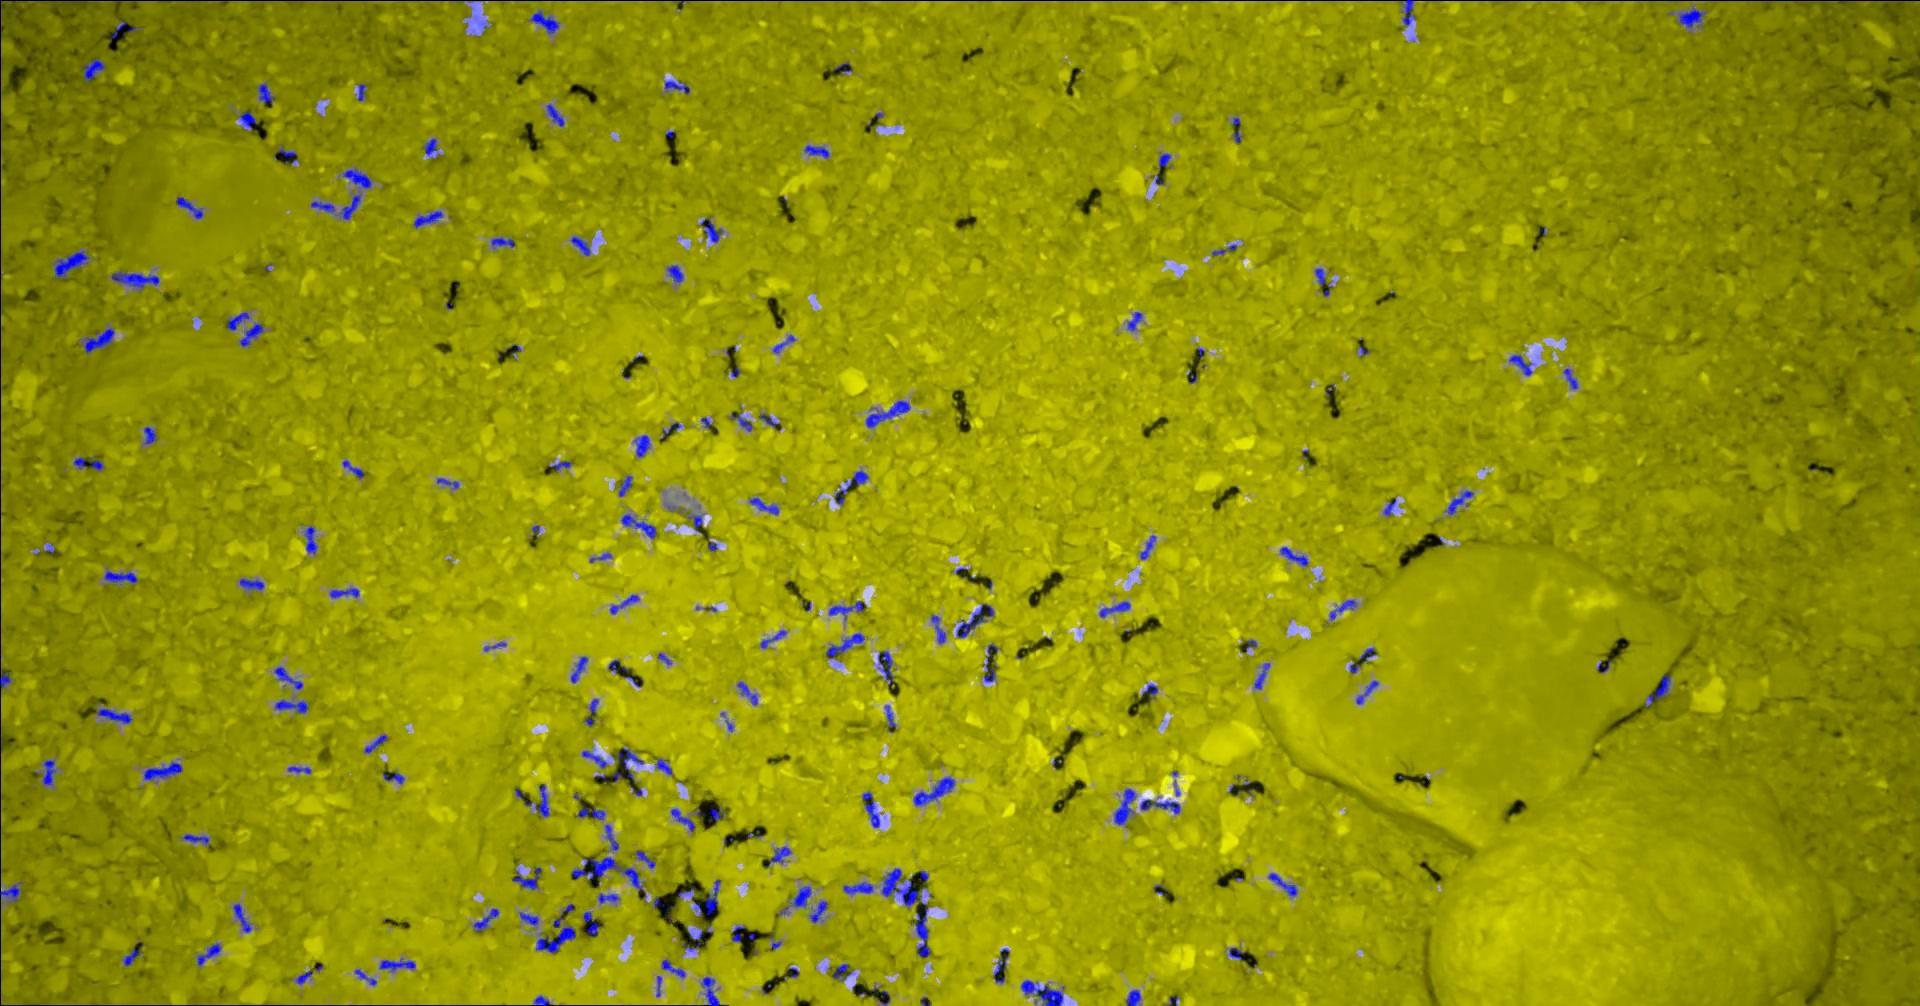ant: (883, 868, 932, 956), (573, 856, 645, 890), (957, 603, 996, 636), (914, 776, 956, 805), (836, 470, 870, 504), (867, 400, 910, 427), (1022, 979, 1065, 1005), (613, 747, 645, 780), (55, 250, 91, 278), (827, 633, 866, 658), (537, 926, 577, 951), (695, 879, 723, 915), (622, 513, 658, 539), (610, 659, 643, 686), (113, 271, 161, 288), (1115, 788, 1138, 824), (526, 782, 551, 815), (85, 326, 116, 353), (1647, 674, 1672, 706), (145, 761, 184, 780), (1, 0, 29, 27), (530, 10, 561, 33), (830, 600, 865, 620), (1269, 873, 1299, 895), (1448, 490, 1476, 514), (513, 868, 543, 889), (177, 196, 204, 218), (276, 666, 303, 688), (863, 791, 881, 827), (344, 166, 373, 188), (764, 846, 792, 868), (611, 594, 641, 614), (475, 908, 500, 931), (1142, 799, 1182, 813), (98, 708, 135, 723), (1281, 546, 1310, 565), (702, 218, 725, 243), (241, 323, 265, 345), (1357, 680, 1380, 704), (672, 808, 696, 831), (198, 942, 222, 965), (985, 643, 999, 682), (1680, 8, 1707, 28), (1331, 600, 1357, 620), (1100, 601, 1131, 617), (879, 652, 895, 683), (554, 903, 575, 927), (415, 210, 444, 227), (750, 497, 780, 514), (234, 903, 251, 932), (703, 976, 721, 1005), (342, 193, 362, 218), (996, 948, 1010, 983), (381, 956, 417, 970), (85, 58, 107, 81), (1510, 354, 1534, 375), (739, 681, 759, 705), (583, 749, 608, 768), (276, 699, 310, 713), (762, 629, 789, 647), (571, 655, 589, 682), (1, 882, 24, 902), (105, 570, 138, 584), (364, 734, 389, 753), (932, 614, 947, 643), (1255, 662, 1271, 688), (547, 103, 566, 126), (229, 311, 251, 330), (775, 334, 797, 353), (731, 412, 754, 431), (663, 959, 687, 977), (1316, 268, 1331, 296), (75, 456, 105, 470), (584, 911, 601, 936), (571, 235, 592, 255), (791, 885, 811, 906), (344, 459, 364, 478), (258, 83, 276, 104), (811, 901, 829, 922), (635, 434, 651, 457), (844, 882, 874, 894), (1142, 535, 1157, 559), (279, 145, 298, 164), (124, 948, 143, 967), (636, 850, 657, 868), (834, 963, 855, 981), (805, 144, 830, 158), (578, 807, 606, 819), (606, 824, 620, 850), (356, 969, 378, 984), (1128, 311, 1144, 332), (331, 587, 361, 598), (1403, 0, 1416, 25), (665, 80, 691, 93), (44, 760, 57, 785), (306, 525, 317, 553), (241, 111, 258, 130), (312, 199, 337, 212), (668, 265, 684, 283), (1213, 244, 1238, 255), (664, 422, 683, 437), (383, 770, 406, 782), (1564, 368, 1578, 389), (620, 475, 634, 495), (241, 578, 265, 589), (886, 705, 897, 732), (184, 833, 211, 843), (521, 911, 540, 925), (1361, 647, 1378, 662), (657, 758, 673, 774), (761, 413, 778, 427), (690, 514, 703, 532), (1, 667, 13, 688), (491, 238, 516, 248), (1234, 117, 1243, 144), (550, 460, 573, 470), (425, 138, 439, 155), (733, 925, 747, 941), (297, 970, 314, 984), (145, 426, 157, 443), (438, 478, 460, 488), (599, 893, 621, 903), (1128, 989, 1142, 1005), (711, 807, 725, 821), (1143, 683, 1159, 695), (836, 62, 853, 72), (359, 83, 370, 100), (535, 995, 552, 1005), (290, 766, 312, 774), (1161, 152, 1172, 166), (1230, 948, 1244, 959), (36, 0, 98, 1), (157, 0, 208, 1)
